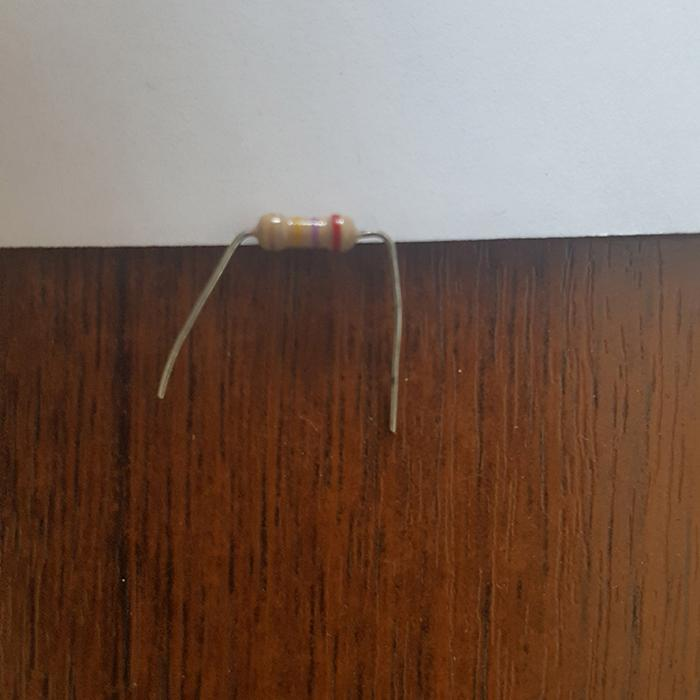resistor: (256, 213, 360, 253)
